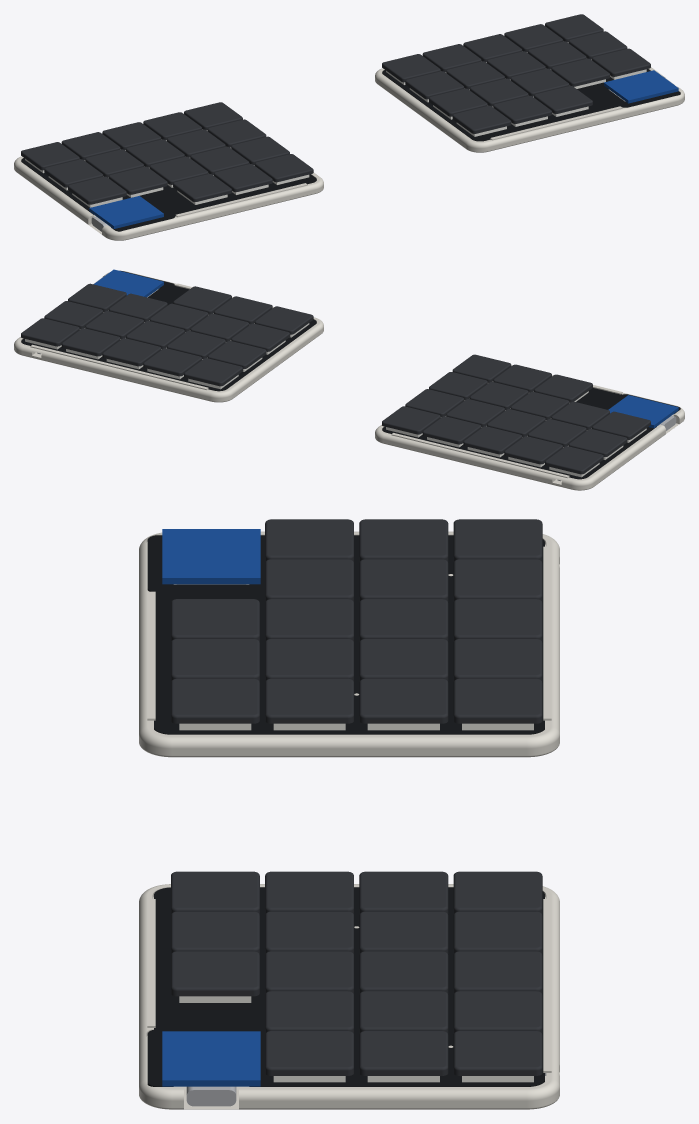
Rendered from keyboard.glb.
3 renders of one model, top to bottom at view 1: azimuth 30°, elevation 25°; view 2: azimuth 150°, elevation 25°; view 3: azimuth 270°, elevation 25°, orthographic. The views are drawn at different scales.
Visible parts, largest first — view 1: tray (×2), pcb (×2), xiao_pcb (×2), cap_4_3 (×2), cap_0_2 (×2), cap_2_3 (×2), cap_1_2 (×2), cap_3_3 (×2), cap_4_1 (×2), cap_0_1 (×2), cap_4_2 (×2), cap_4_0 (×2) (+9 smaller); view 2: tray (×2), pcb (×2), xiao_pcb (×2), cap_0_0 (×2), cap_4_0 (×2), cap_2_0 (×2), cap_3_0 (×2), cap_1_0 (×2), cap_4_3 (×2), cap_0_1 (×2), cap_4_1 (×2), cap_0_2 (×2) (+9 smaller); view 3: tray (×2), pcb (×2), xiao_pcb (×2), cap_4_0 (×2), cap_4_1 (×2), cap_0_0 (×2), cap_0_1 (×2), cap_4_2 (×2), cap_4_3 (×2), cap_2_3 (×2), cap_0_2 (×2), cap_3_0 (×2) (+10 smaller).
Part boxes in pixels (<box>): tray (×2): <box>14,67,684,240</box>; pcb (×2): <box>21,69,680,231</box>; xiao_pcb (×2): <box>89,70,678,228</box>; cap_4_3 (×2): <box>254,105,511,182</box>; cap_0_2 (×2): <box>68,48,650,204</box>; cap_2_3 (×2): <box>173,85,592,201</box>; cap_1_2 (×2): <box>108,58,609,194</box>; cap_3_3 (×2): <box>214,95,551,192</box>; cap_4_1 (×2): <box>207,71,464,147</box>; cap_0_1 (×2): <box>44,31,627,187</box>; cap_4_2 (×2): <box>231,88,487,164</box>; cap_4_0 (×2): <box>184,54,440,130</box>; tray (×2): <box>14,270,684,490</box>; pcb (×2): <box>21,270,680,479</box>; xiao_pcb (×2): <box>94,269,678,428</box>; cap_0_0 (×2): <box>21,318,603,474</box>; cap_4_0 (×2): <box>184,358,440,434</box>; cap_2_0 (×2): <box>102,338,522,454</box>; cap_3_0 (×2): <box>143,348,481,444</box>; cap_1_0 (×2): <box>61,328,562,464</box>; cap_4_3 (×2): <box>254,306,511,382</box>; cap_0_1 (×2): <box>44,301,627,456</box>; cap_4_1 (×2): <box>207,341,464,417</box>; cap_0_2 (×2): <box>68,283,650,439</box>; tray (×2): <box>139,531,559,1109</box>; pcb (×2): <box>147,535,544,1086</box>; xiao_pcb (×2): <box>162,529,260,1086</box>; cap_4_0 (×2): <box>453,678,542,914</box>; cap_4_1 (×2): <box>359,678,448,914</box>; cap_0_0 (×2): <box>453,519,542,1075</box>; cap_0_1 (×2): <box>359,519,448,1075</box>; cap_4_2 (×2): <box>265,678,353,914</box>; cap_4_3 (×2): <box>171,678,259,914</box>; cap_2_3 (×2): <box>171,599,259,996</box>; cap_0_2 (×2): <box>265,519,353,1075</box>; cap_3_0 (×2): <box>453,639,542,953</box>.
Size of the model in its own units: 0.2408 by 0.007 by 0.076.
